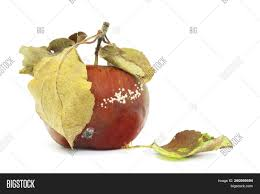damaged_apple: (38, 55, 147, 149)
